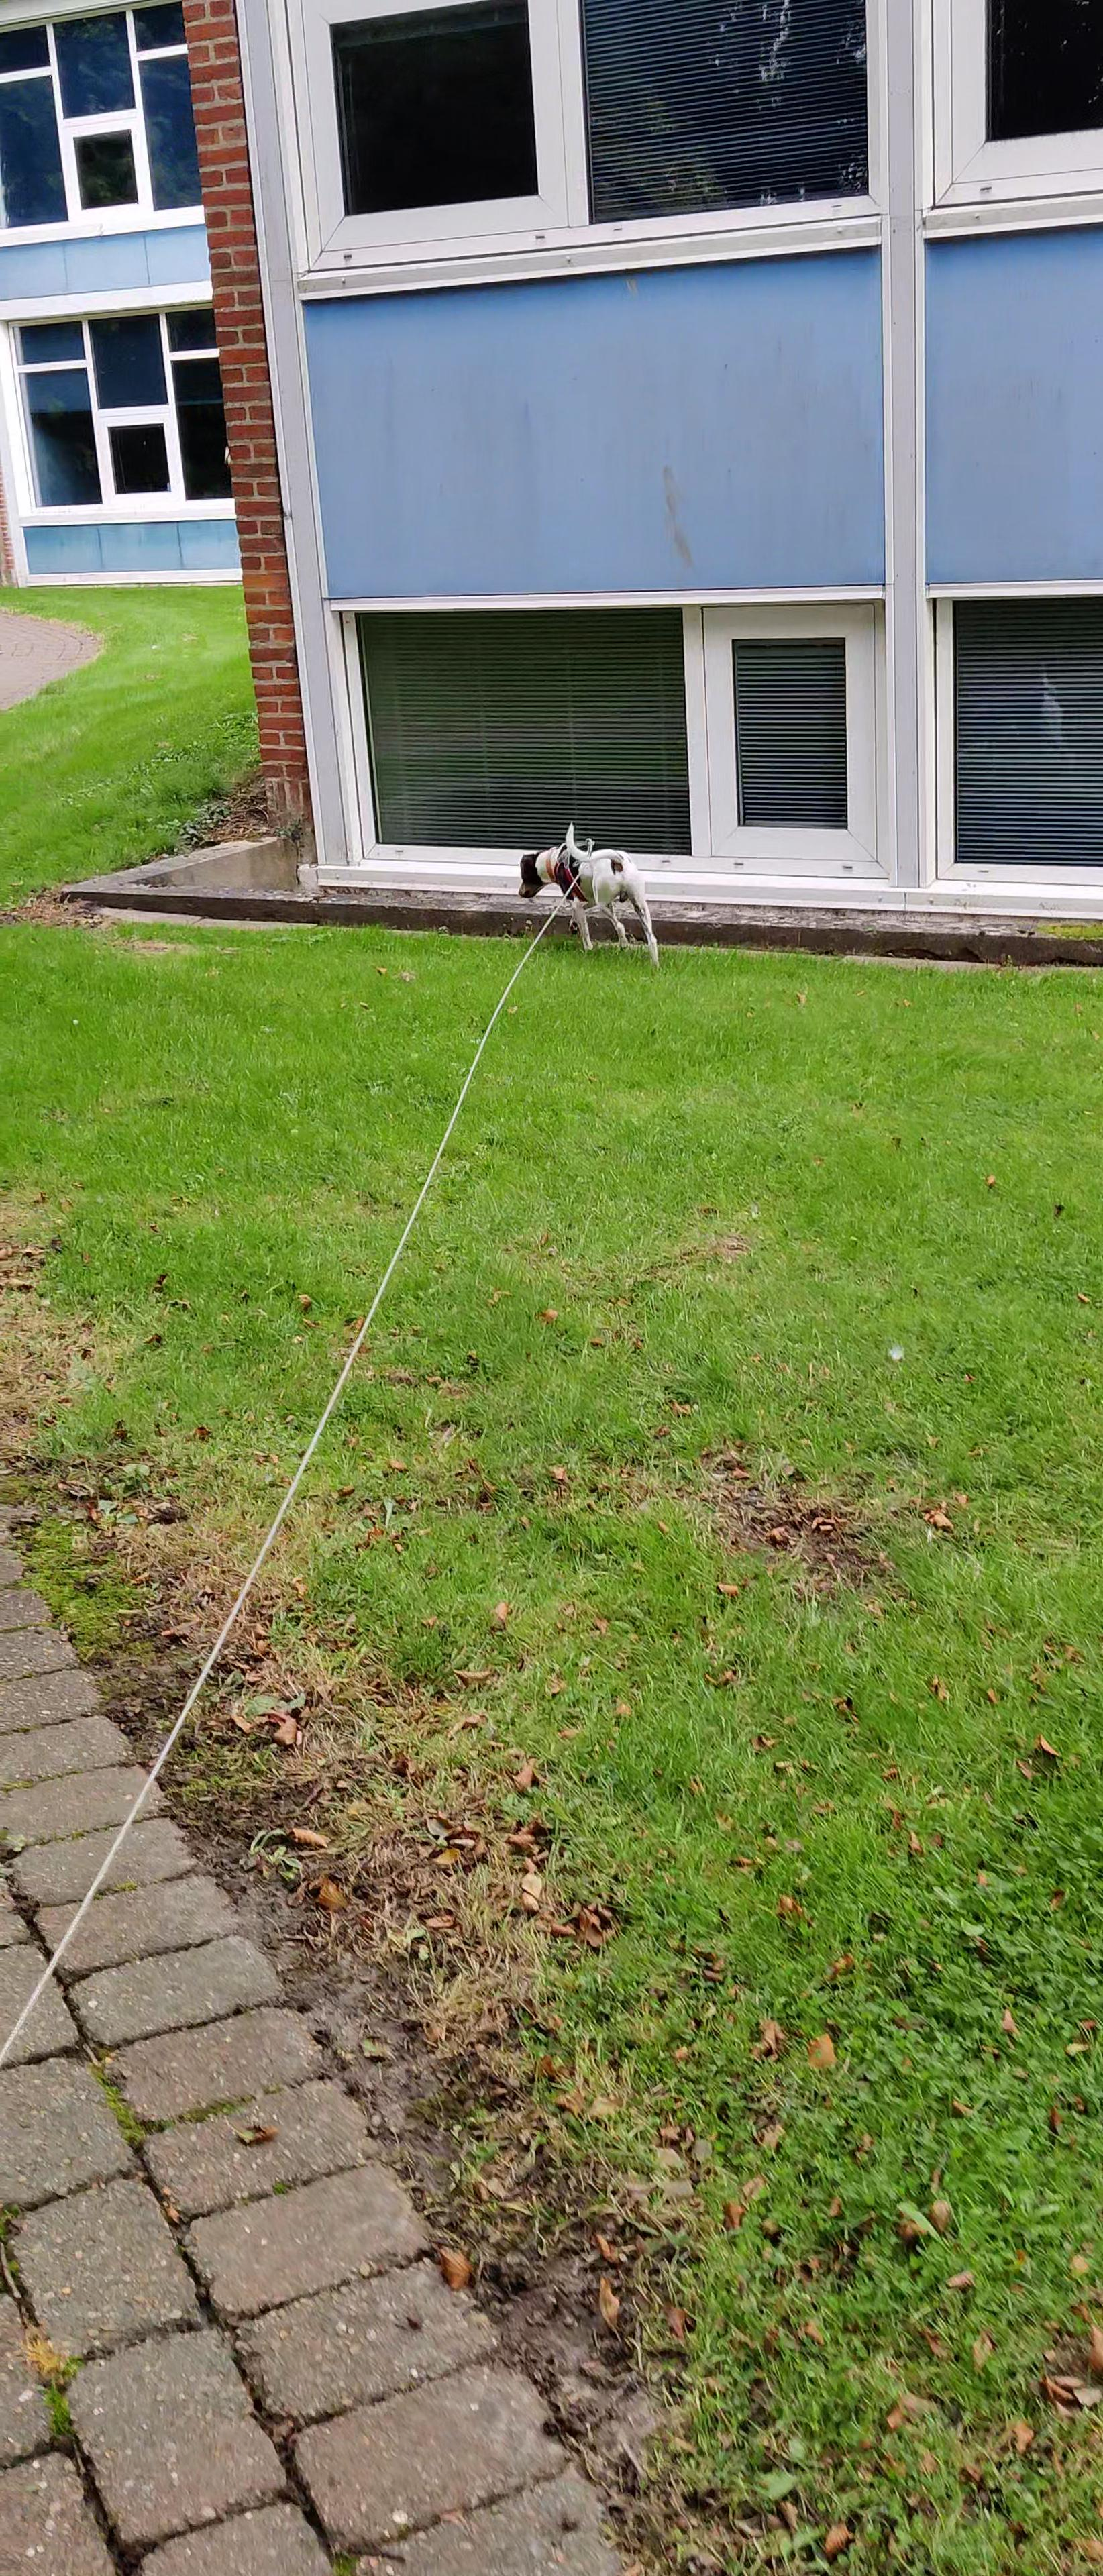Dog: (513, 813, 664, 984)
